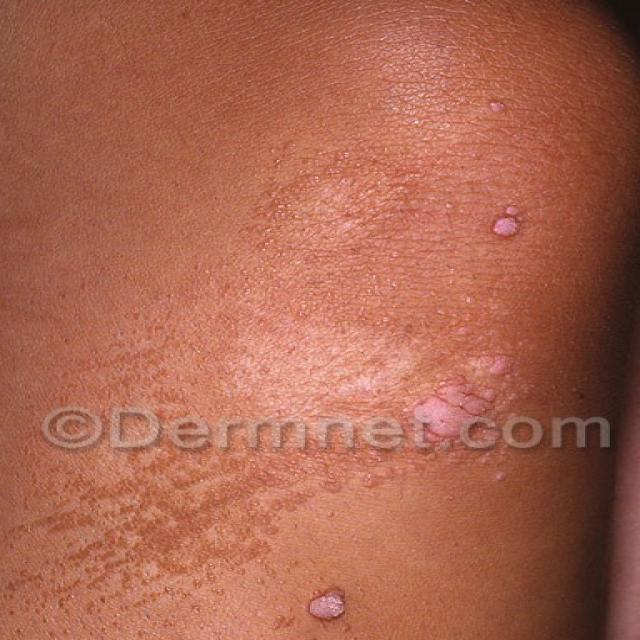Warts: (0, 412, 363, 572), (400, 330, 549, 482), (267, 583, 380, 630), (486, 206, 538, 251)
